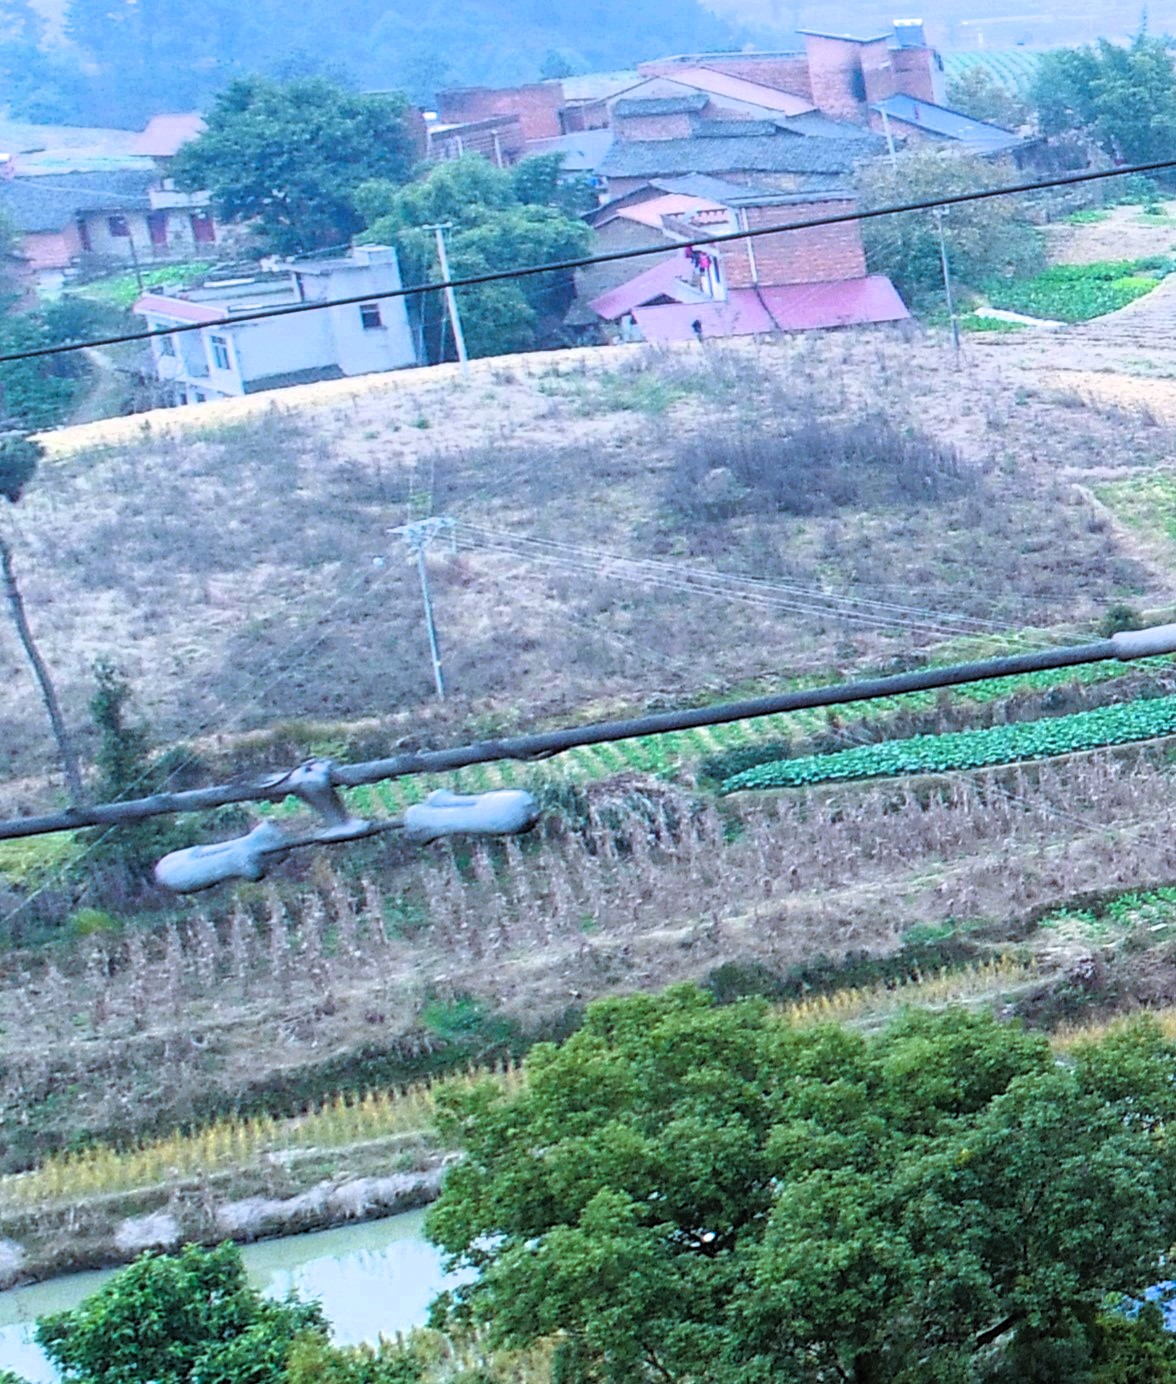Shockproof hammer: (136, 722, 558, 903)
